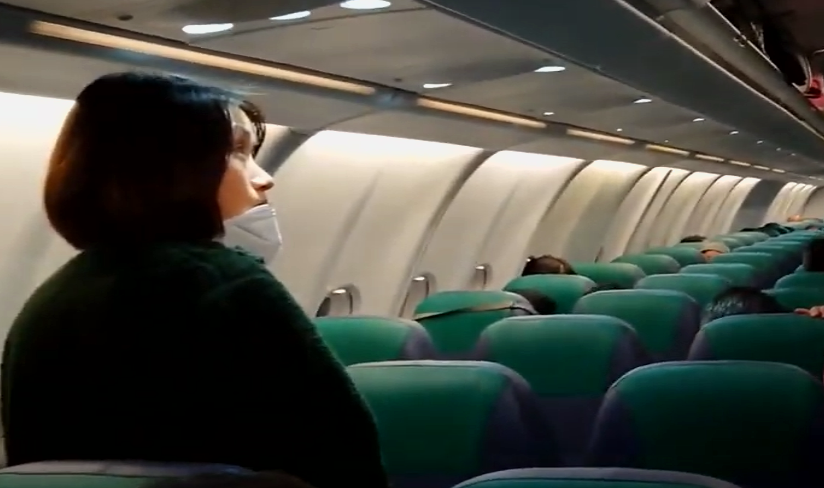mask_weared_incorrect: (139, 68, 286, 265)
